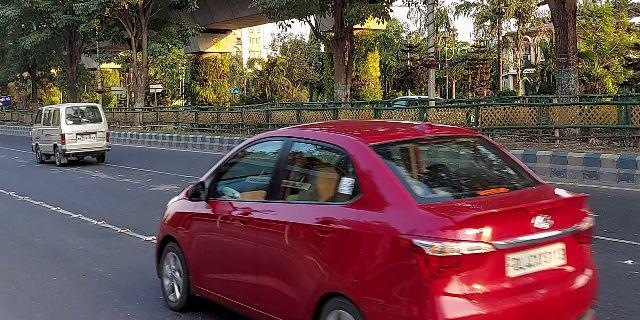Car: (152, 114, 601, 320)
Van: (28, 99, 111, 170)
